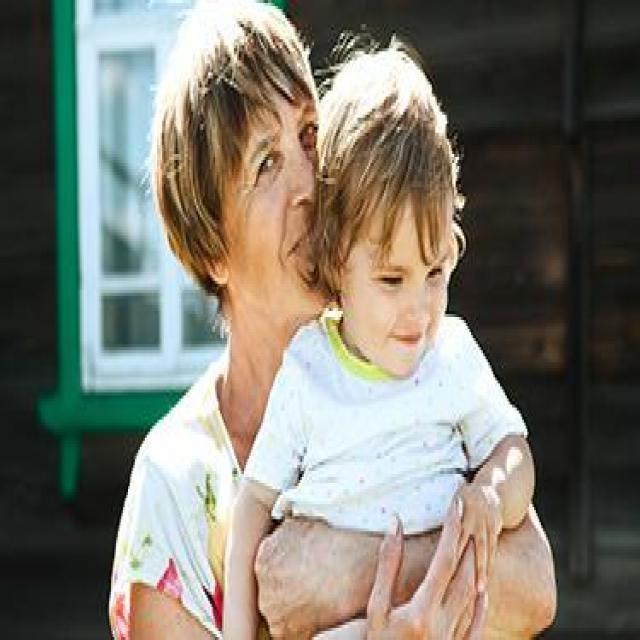child: (227, 33, 534, 640)
